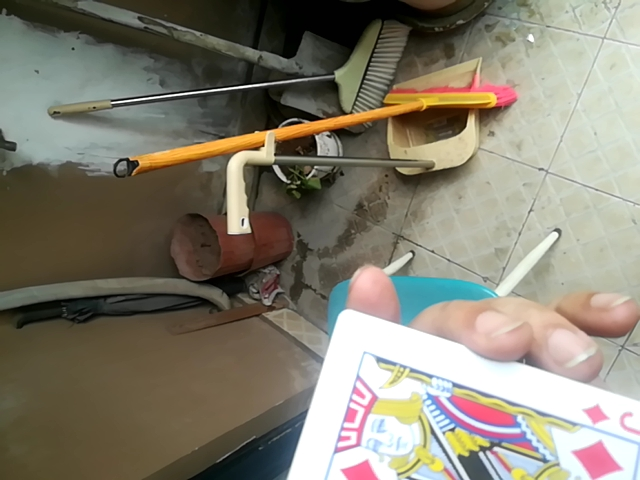fk j: (290, 303, 636, 475)
